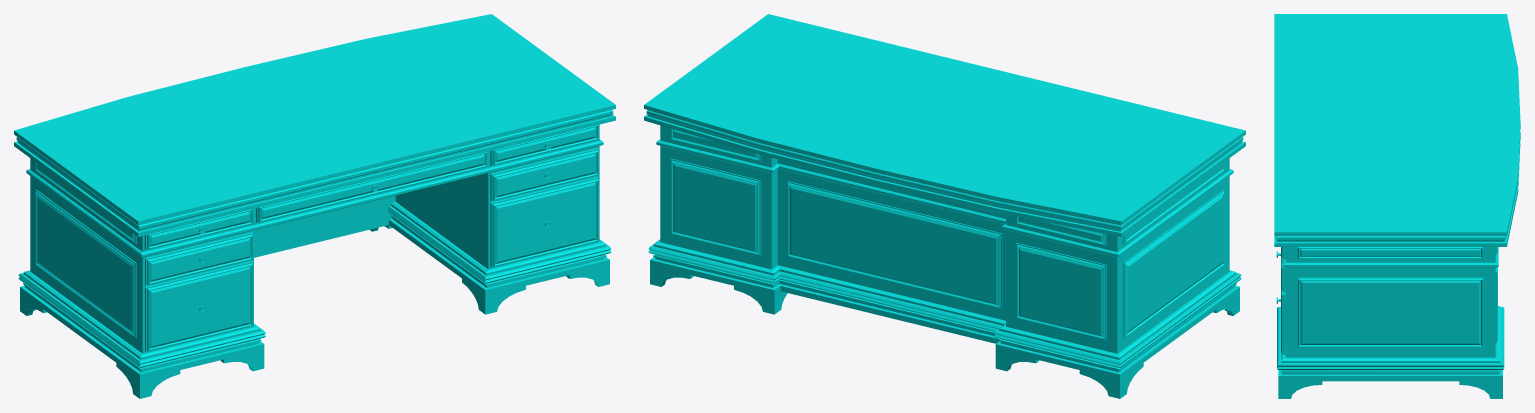
File: table2.fbx
The picture shows the model from 3 angles, left to right: view 1: azimuth 30°, elevation 25°; view 2: azimuth 150°, elevation 25°; view 3: azimuth 270°, elevation 25°; orthographic projection. The views are drawn at different scales.
Visible parts, largest first — view 1: table2Base, table2Drawer3, table2Drawer4, table2Drawer1, table2Drawer2; view 2: table2Base; view 3: table2Base, table2Drawer4.
Part boxes in pixels (left/top/right/bottom): table2Base: left=14, top=14, right=615, bottom=398; table2Drawer3: left=145, top=261, right=253, bottom=351; table2Drawer4: left=490, top=176, right=598, bottom=267; table2Drawer1: left=145, top=232, right=253, bottom=285; table2Drawer2: left=490, top=148, right=598, bottom=201; table2Base: left=644, top=14, right=1245, bottom=398; table2Base: left=1274, top=14, right=1520, bottom=398; table2Drawer4: left=1276, top=286, right=1285, bottom=354.
Bounding box in the file's own units: 230 × 82.82 × 110.
